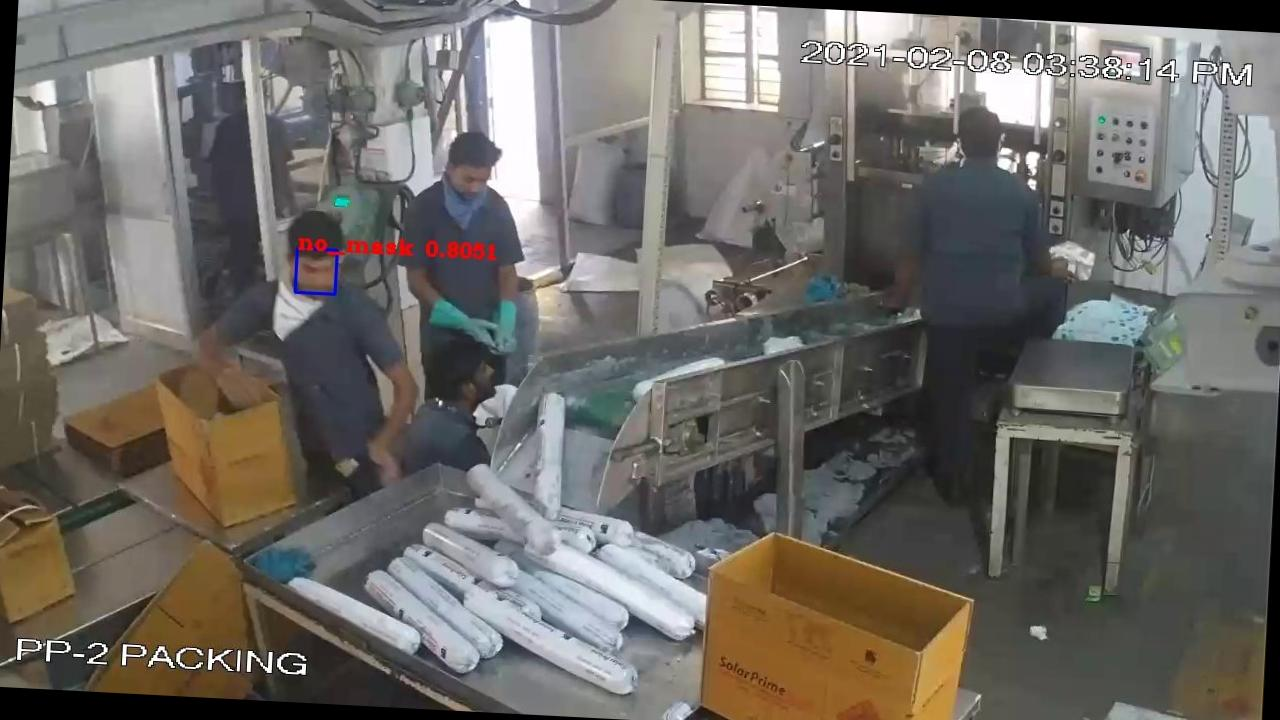Gloves: (420, 266, 504, 364), (480, 251, 534, 361)
No-gloves: (356, 342, 441, 489), (197, 305, 270, 411)
